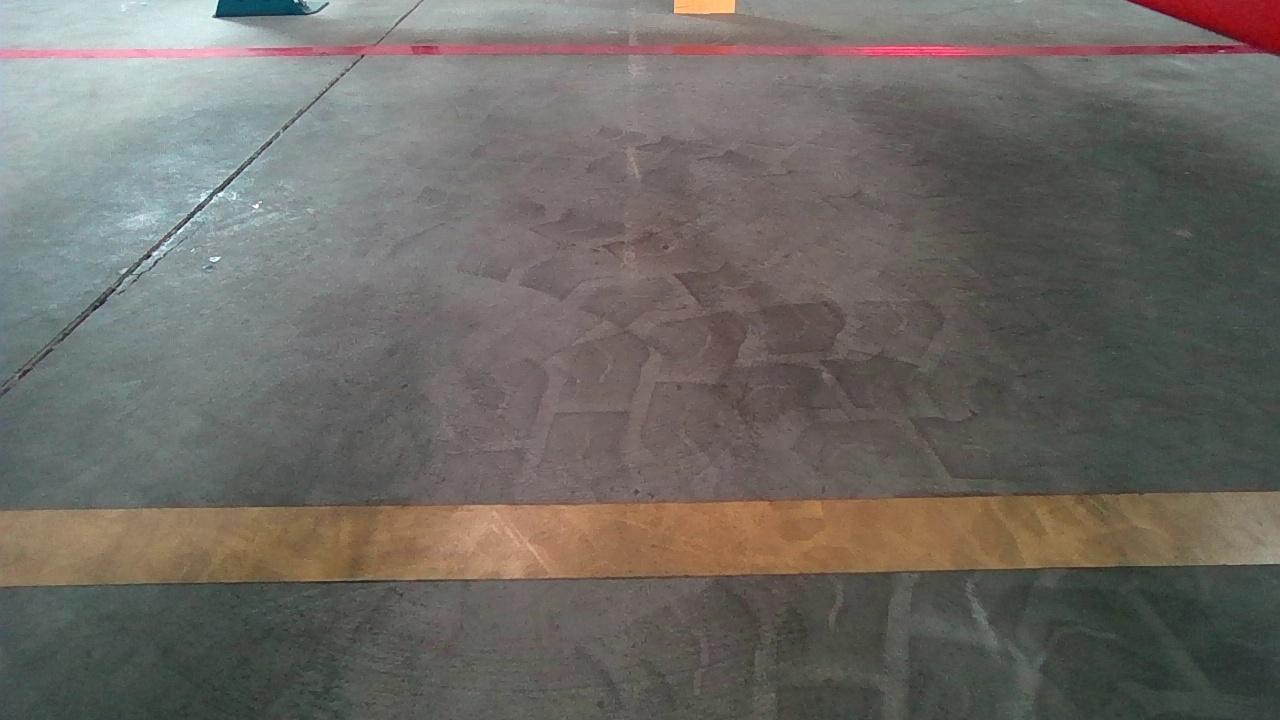red_line: (12, 32, 1252, 72)
yellow_line: (0, 488, 1275, 589)
